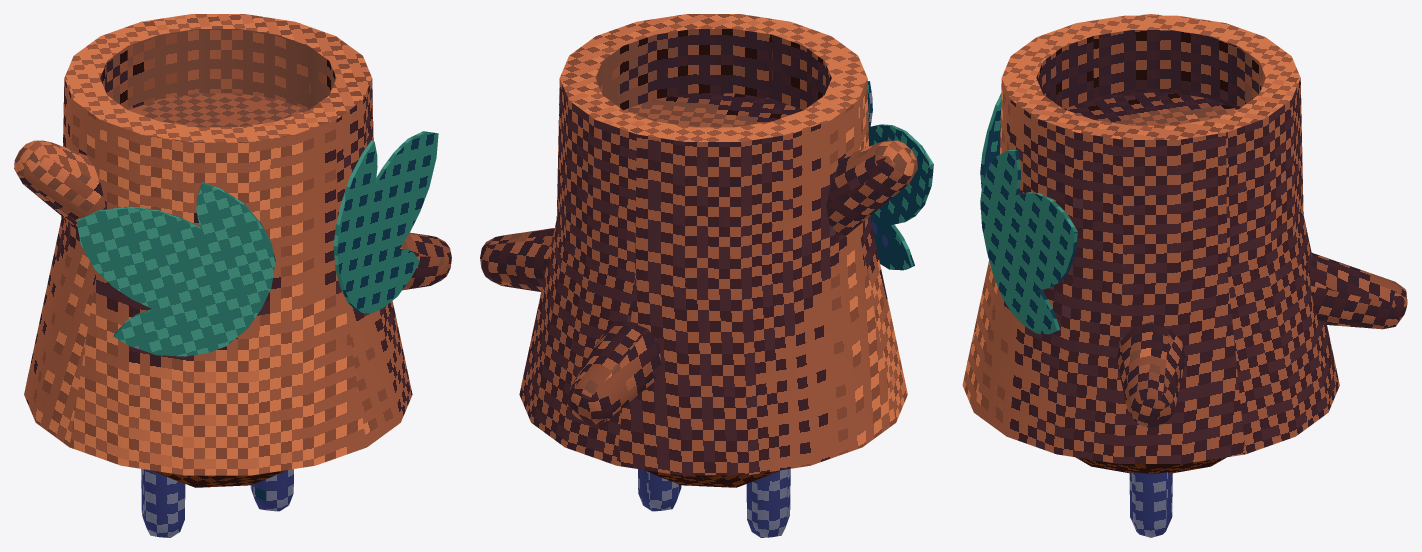
The model's file is creature-pixel-01.glb.
3 views of the same model, side by side, from view 1: azimuth 30°, elevation 25°; view 2: azimuth 150°, elevation 25°; view 3: azimuth 270°, elevation 25° (orthographic). The views are drawn at different scales.
Visible parts, largest first — view 1: creature pixel 01; view 2: creature pixel 01; view 3: creature pixel 01.
Boxes of the visible parts, left/top/right/bottom form: creature pixel 01: left=14, top=14, right=451, bottom=537; creature pixel 01: left=480, top=14, right=933, bottom=537; creature pixel 01: left=962, top=14, right=1407, bottom=537.
Bounding box in the file's own units: 0.3106 × 0.3084 × 0.2871.
Materials: 1 (1 with a texture image).
